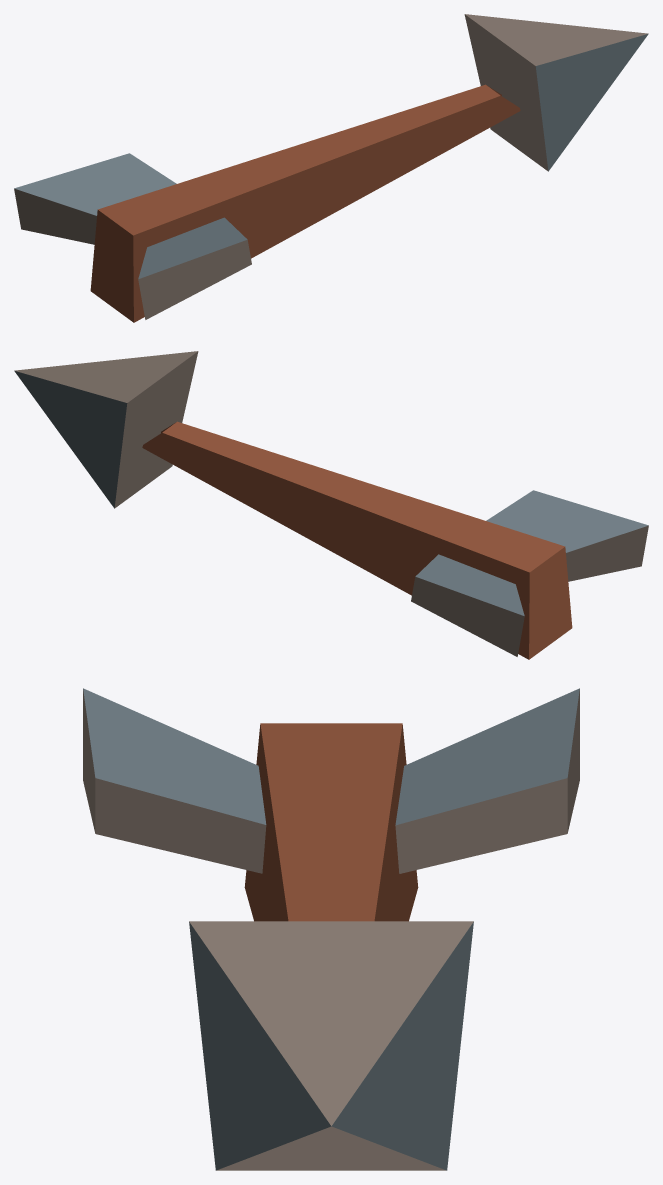
Rendered from crossbow arrow.fbx.
3 renders of one model, top to bottom at view 1: azimuth 30°, elevation 25°; view 2: azimuth 150°, elevation 25°; view 3: azimuth 270°, elevation 25°, orthographic. The views are drawn at different scales.
Visible parts, largest first — view 1: Cone; view 2: Cone; view 3: Cone.
Boxes of the visible parts, x1,y1,x2,y2 form: Cone: (14,14,648,322); Cone: (14,351,648,659); Cone: (83,688,579,1170).
Bounding box in the file's own units: 221 × 63.54 × 83.
